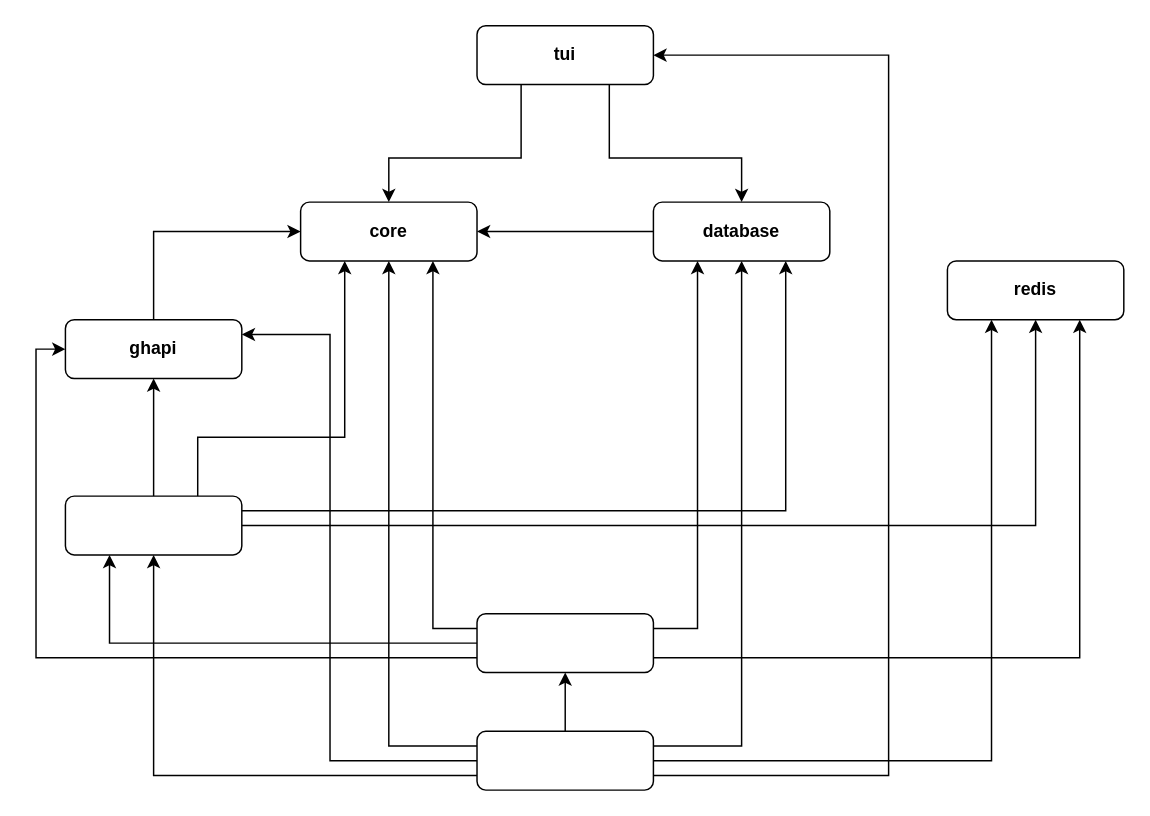
Image size: 1150x816. Some labels were removed from this diagram. Each missing label, with the box of its shape:
cli: (476, 730, 653, 790)
domain: (64, 495, 242, 555)
server: (476, 612, 653, 673)
